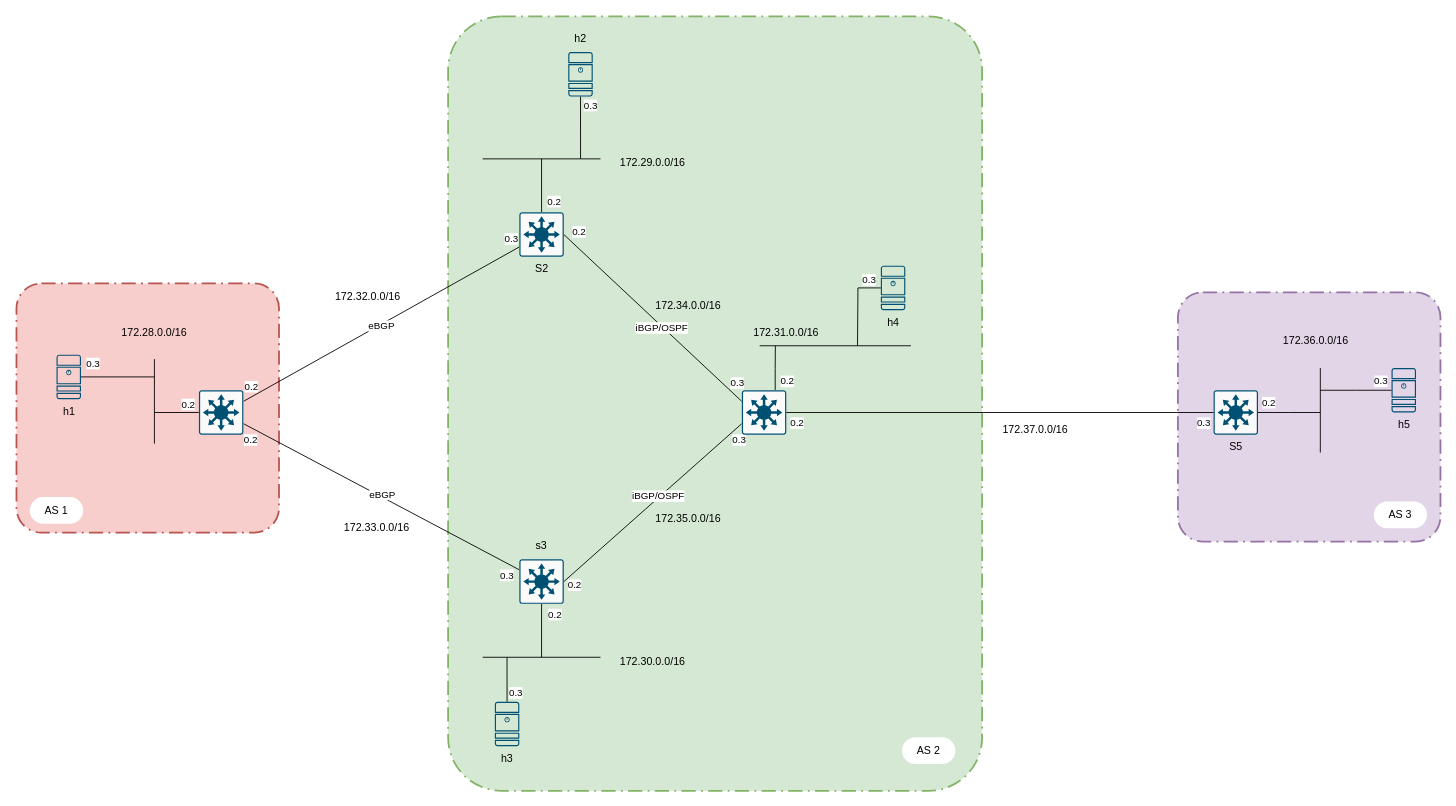
Image size: 1456x806. Some labels were removed from this diagram. Here are the shapes that lost their labels. From the top down, the centre of each, then its label:
At point 220,412: "S1".
At point 763,412: "S4".
